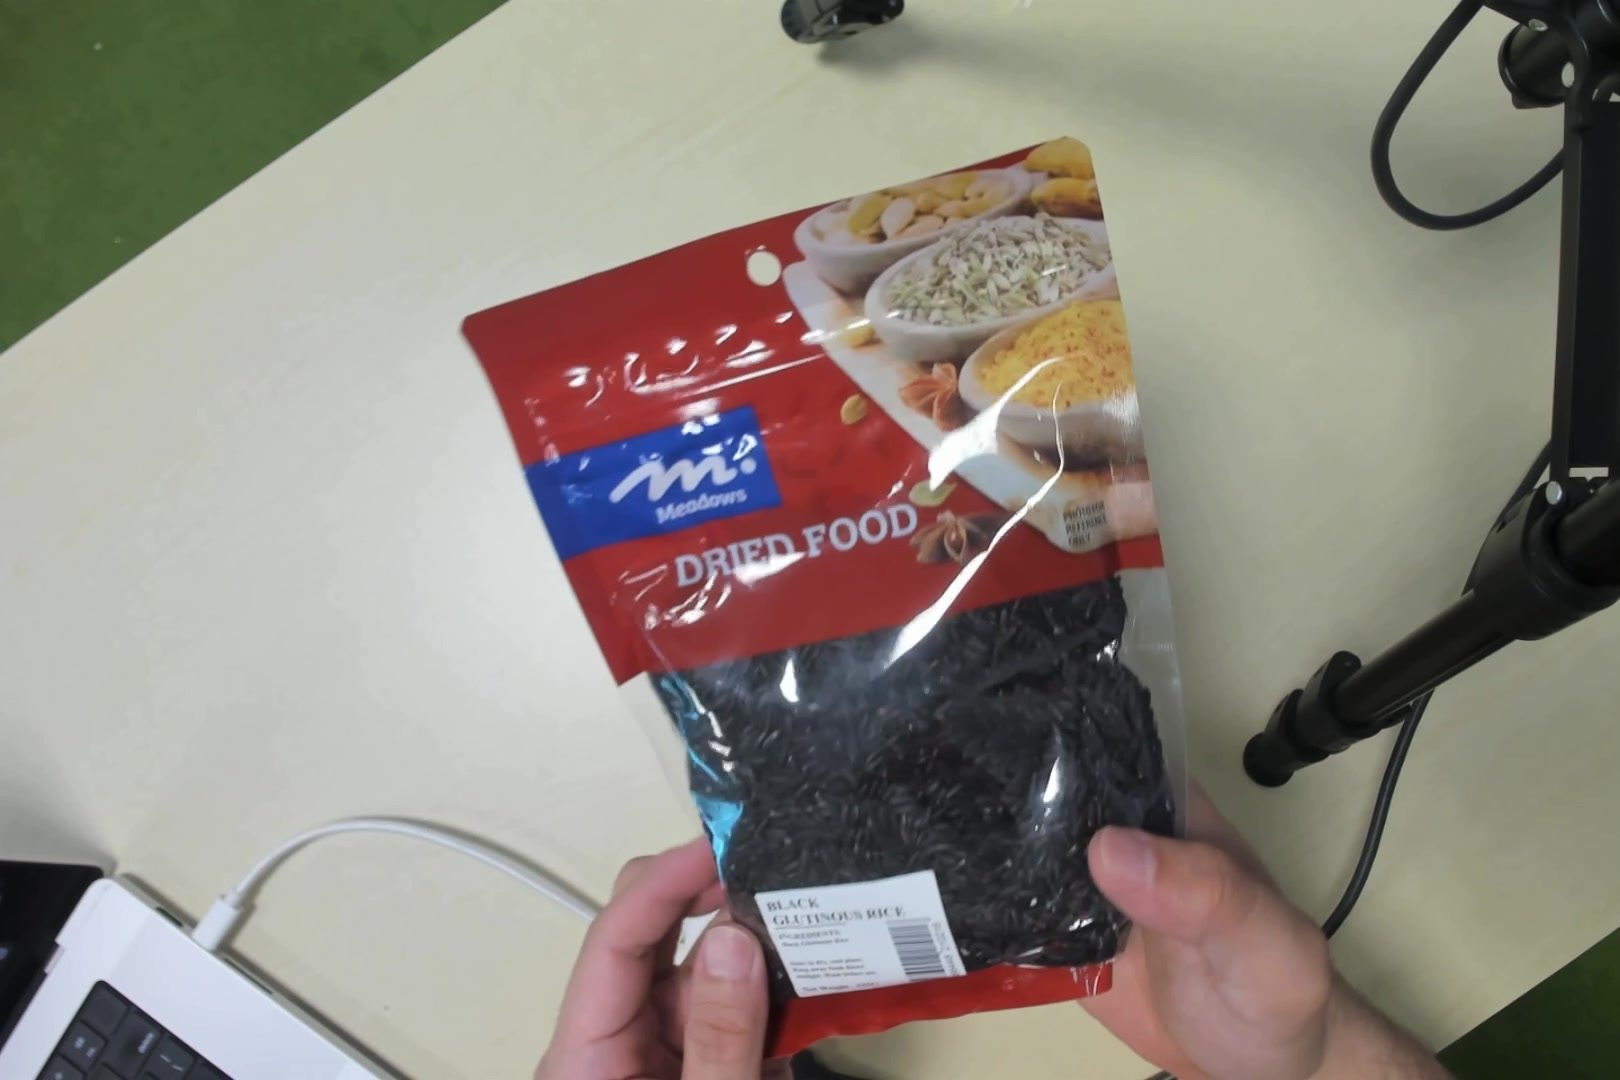OtherDriedFood_100-199g_NonHalal_NonHealthy: (588, 196, 1170, 1022)
